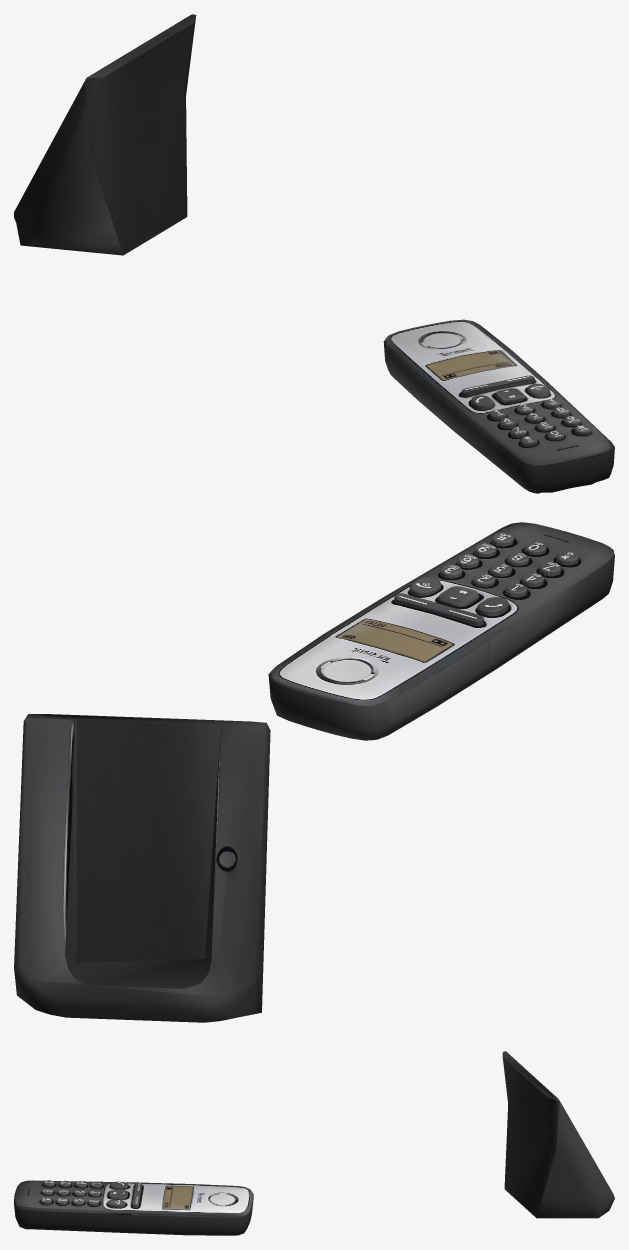
Rendered from téléphone.FBX.
3 renders of one model, top to bottom at view 1: azimuth 30°, elevation 25°; view 2: azimuth 150°, elevation 25°; view 3: azimuth 270°, elevation 25°, orthographic. The views are drawn at different scales.
Visible parts, largest first — view 1: Obj-cocle-tel-san-fil_01, Obj-telephone-sans-fil_01; view 2: Obj-cocle-tel-san-fil_01, Obj-telephone-sans-fil_01; view 3: Obj-telephone-sans-fil_01, Obj-cocle-tel-san-fil_01.
Part boxes in pixels (x1,y1,x2,y2): Obj-cocle-tel-san-fil_01: (14, 14, 196, 255); Obj-telephone-sans-fil_01: (383, 319, 614, 493); Obj-cocle-tel-san-fil_01: (14, 714, 270, 1022); Obj-telephone-sans-fil_01: (268, 522, 614, 740); Obj-telephone-sans-fil_01: (14, 1180, 253, 1235); Obj-cocle-tel-san-fil_01: (502, 1051, 614, 1218).
Size of the model in its own units: 5.38 by 4.18 by 18.01.
